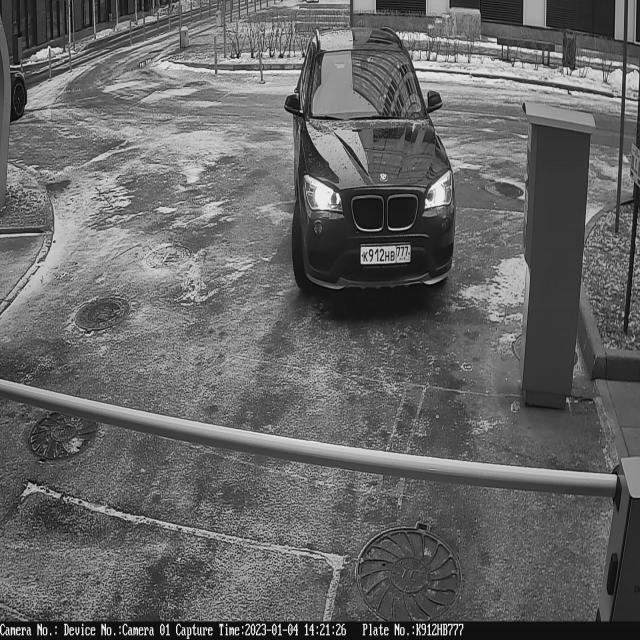car-plate-numbers: (358, 238, 414, 273)
